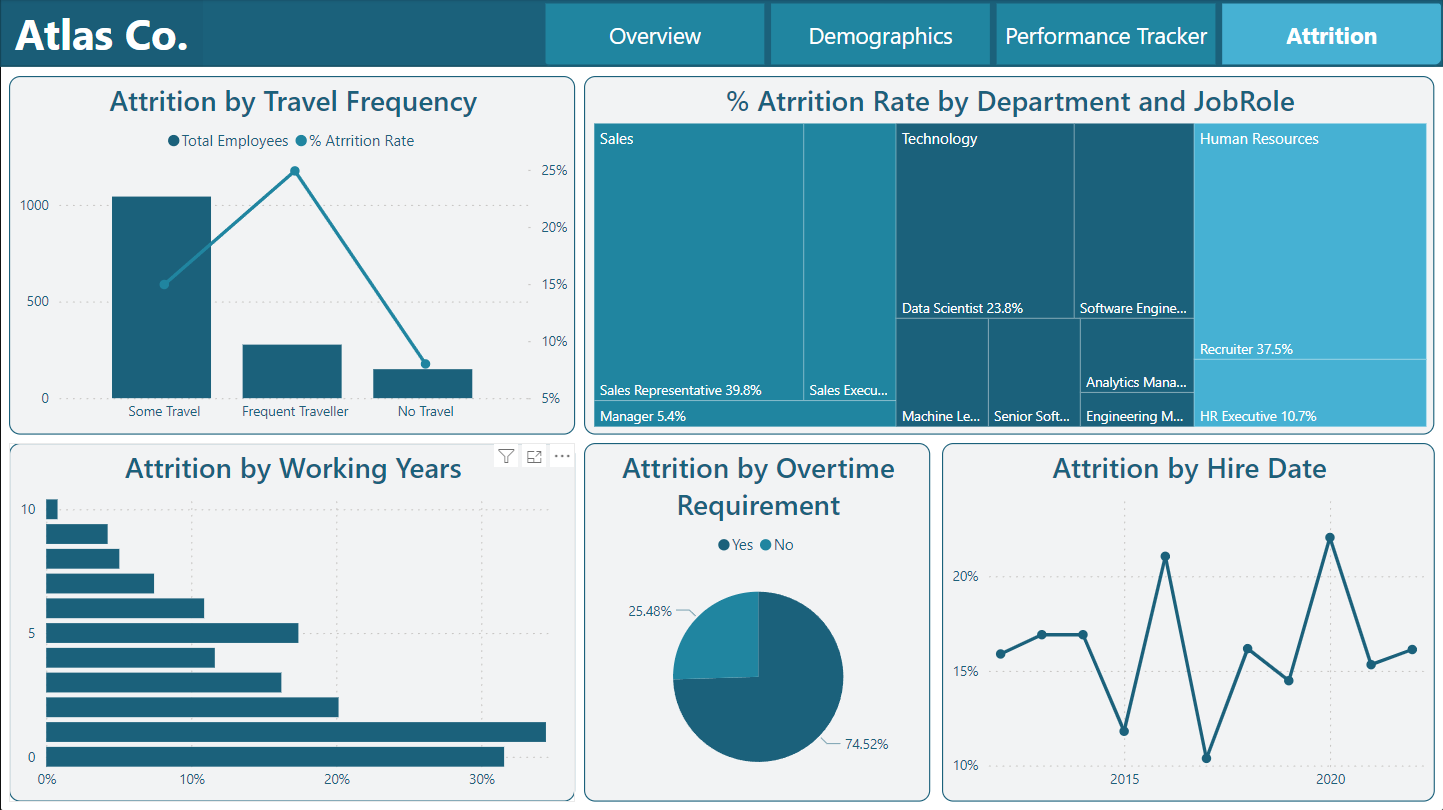

The page's visual inventory and layout, read from the dashboard file:
{"tool":"powerbi","page":{"name":"Attrition","canvas":[1280,720],"ordinal":3},"visuals":[{"type":"treemap","fields":{"Group":["DimEmployee.Department"],"Values":["_Measures.% Atrrition Rate"],"Details":["DimEmployee.JobRole"]},"box":[518,68,754,318],"z":1000},{"type":"lineChart","title":"Attrition by Hire Date","fields":{"Category":["DimDate.Year"],"Y":["_Measures.% Attrition Rate Date"]},"box":[835,394,437,318],"z":2000},{"type":"lineClusteredColumnComboChart","title":"Attrition by Travel Frequency","fields":{"Category":["DimEmployee.BusinessTravel"],"Y2":["_Measures.% Atrrition Rate"],"Y":["_Measures.TotalEmployeesDate"]},"box":[8,68,502,318],"z":3000},{"type":"pieChart","title":"Attrition by Overtime Requirement","fields":{"Category":["DimEmployee.OverTime"],"Y":["_Measures.% Atrrition Rate"]},"box":[518,394,307,318],"z":4000},{"type":"clusteredBarChart","title":"Attrition by Working Years","fields":{"Category":["DimEmployee.YearsAtCompany"],"Y":["_Measures.% Atrrition Rate"]},"box":[8,394,502,318],"z":5000},{"type":"shape","box":[0,0,1280,60],"z":6000},{"type":"pageNavigator","box":[480,0,800,60],"z":7000},{"type":"textbox","box":[0,0,180,60],"z":8000}]}

Visuals, with their boxes in screenshot pixels (x1, y1, x2, y2), scaled from the page's 1280x720 canvas onto the 1443x810 screenshot:
treemap - DimEmployee.Department x _Measures.% Atrrition Rate: l=584, t=76, r=1434, b=434
"Attrition by Hire Date" lineChart: l=941, t=443, r=1434, b=801
"Attrition by Travel Frequency" lineClusteredColumnComboChart: l=9, t=76, r=575, b=434
"Attrition by Overtime Requirement" pieChart: l=584, t=443, r=930, b=801
"Attrition by Working Years" clusteredBarChart: l=9, t=443, r=575, b=801
shape: l=0, t=0, r=1442, b=68
pageNavigator: l=541, t=0, r=1442, b=68
textbox: l=0, t=0, r=203, b=68
